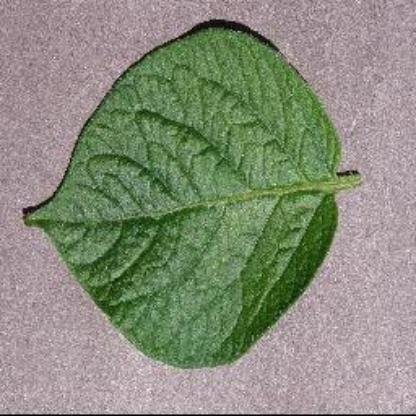Healthy-plant: (18, 18, 370, 372)
